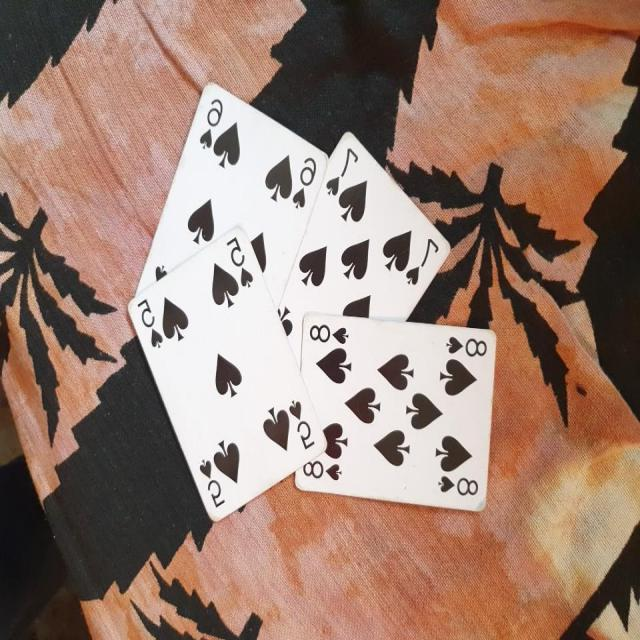5 of spades: (128, 233, 331, 529)
6 of spades: (133, 80, 328, 324)
7 of spades: (275, 129, 453, 362)
8 of spades: (287, 308, 507, 528)
